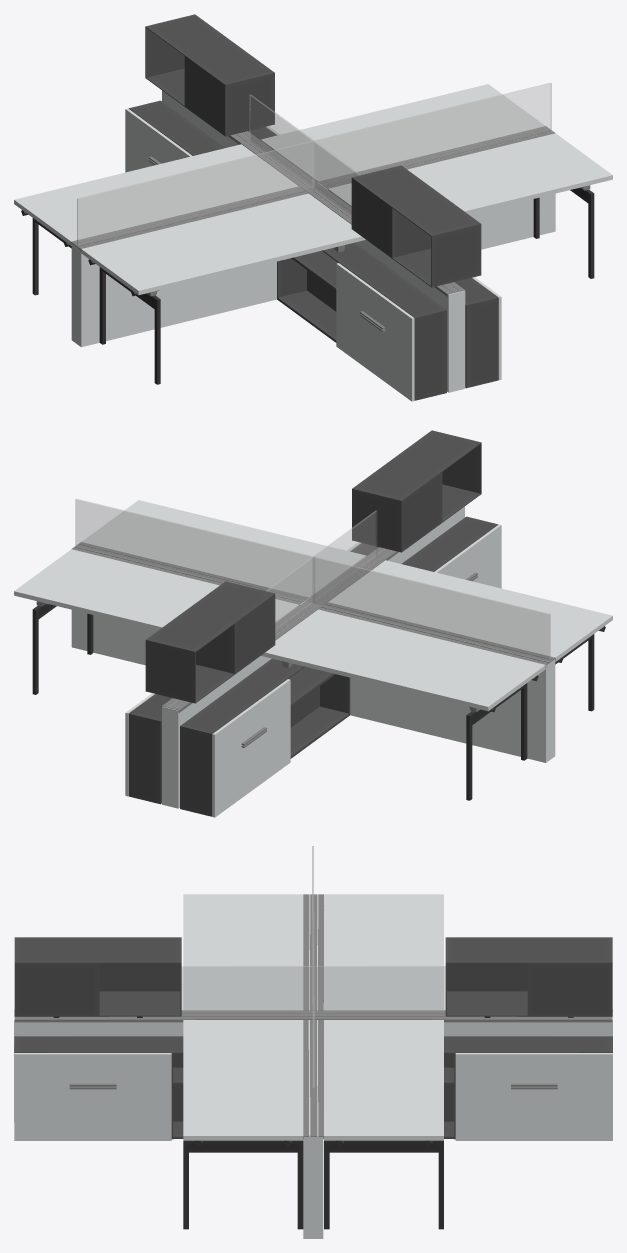
File: DeskTable.fbx
The picture shows the model from 3 angles, top to bottom: view 1: azimuth 30°, elevation 25°; view 2: azimuth 150°, elevation 25°; view 3: azimuth 270°, elevation 25°; orthographic projection. The views are drawn at different scales.
Parts seen in each view (by area): view 1: DeskTable; view 2: DeskTable; view 3: DeskTable.
Part boxes in pixels (<box>): DeskTable: <box>14,14,612,401</box>; DeskTable: <box>14,430,612,817</box>; DeskTable: <box>14,846,612,1238</box>.
Bounding box in the file's own units: 366 × 118 × 383.
